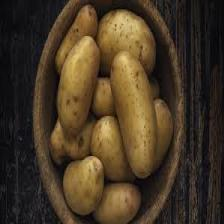Diseased-fungal potato: (109, 49, 157, 179), (56, 34, 102, 136), (60, 155, 105, 216)
